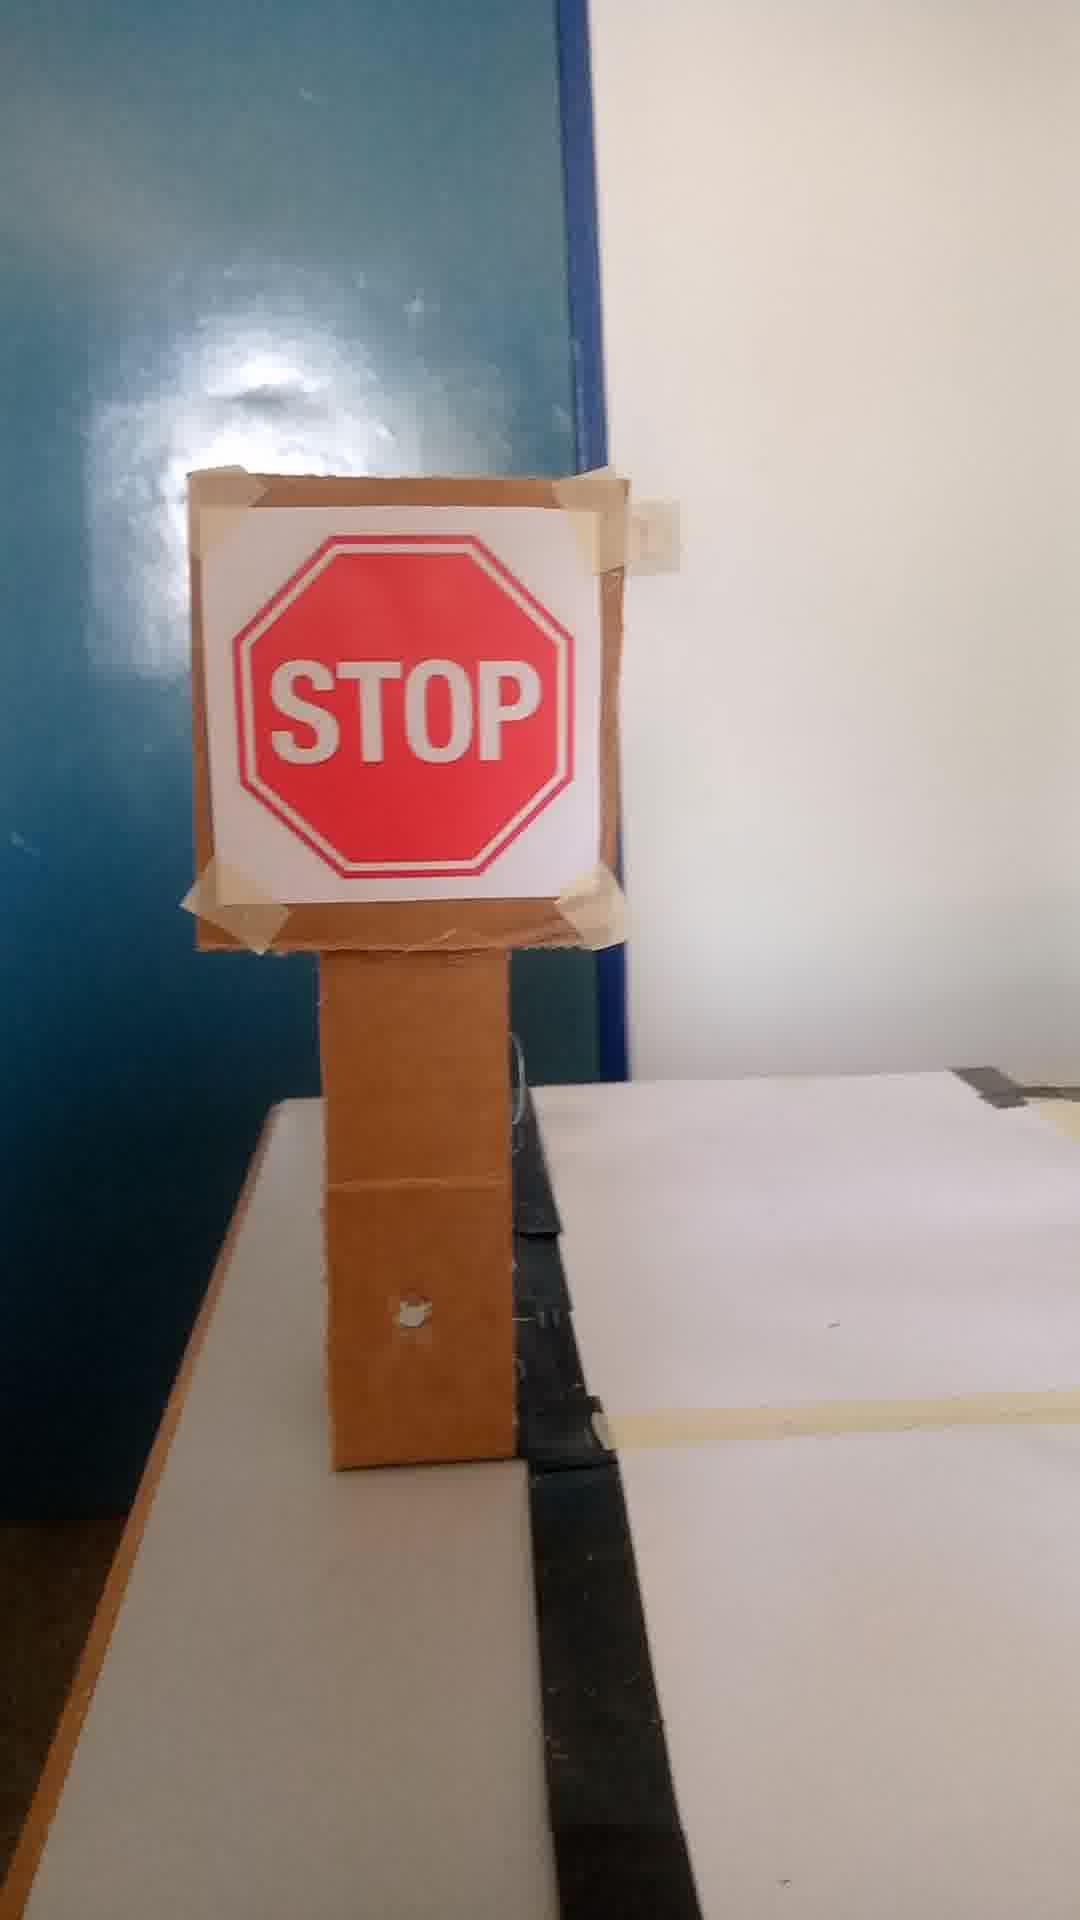panel101: (190, 500, 613, 934)
